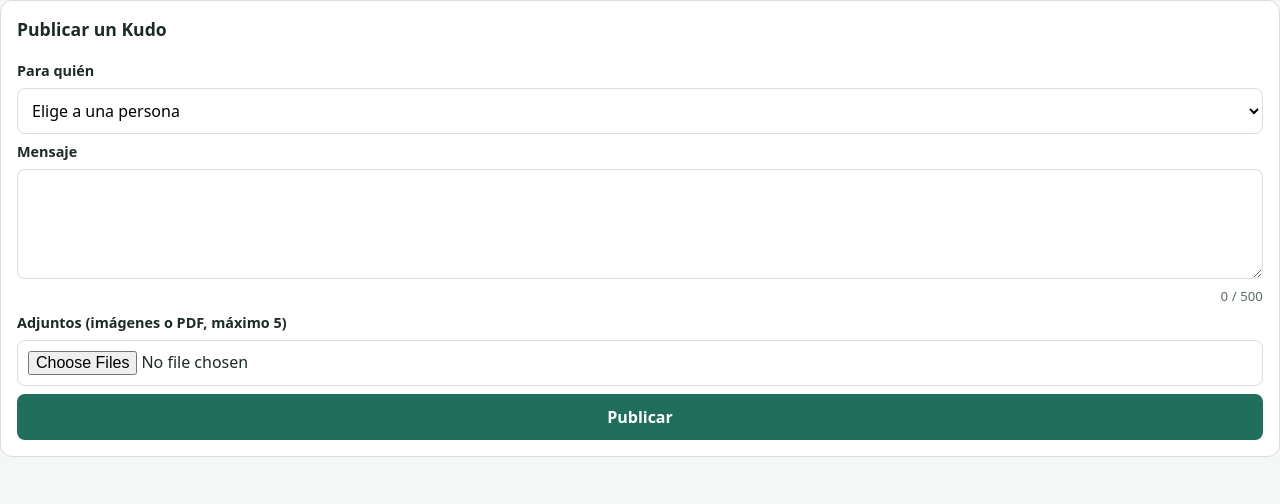
Test case: FormularioKudo › muestra el error que devuelve el backend
Select "Luis" in the dropdown labelled "Para quién" at coordinates (640, 111), box [17,88,1263,134]
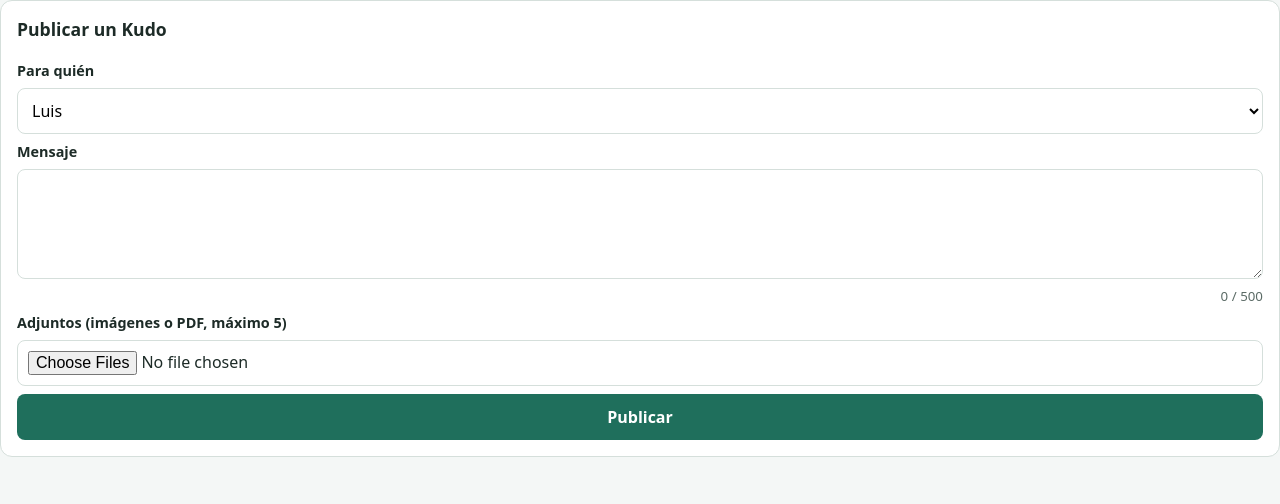
Type "hola" into the text box labelled "Mensaje" at coordinates (640, 224), box [17,169,1263,279]
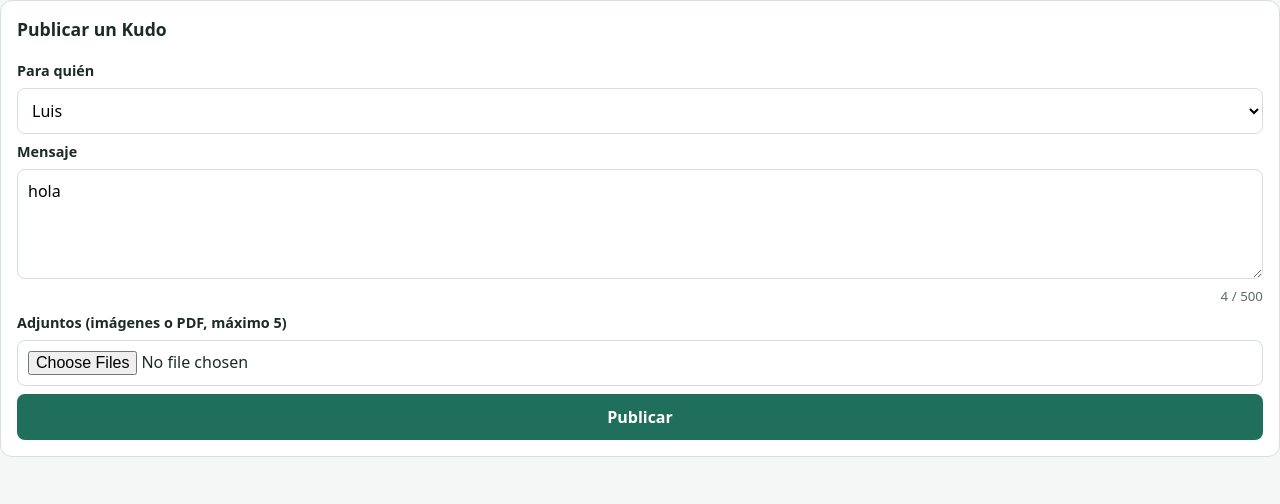
Click the button "Publicar" at coordinates (640, 417), box [17,394,1263,440]
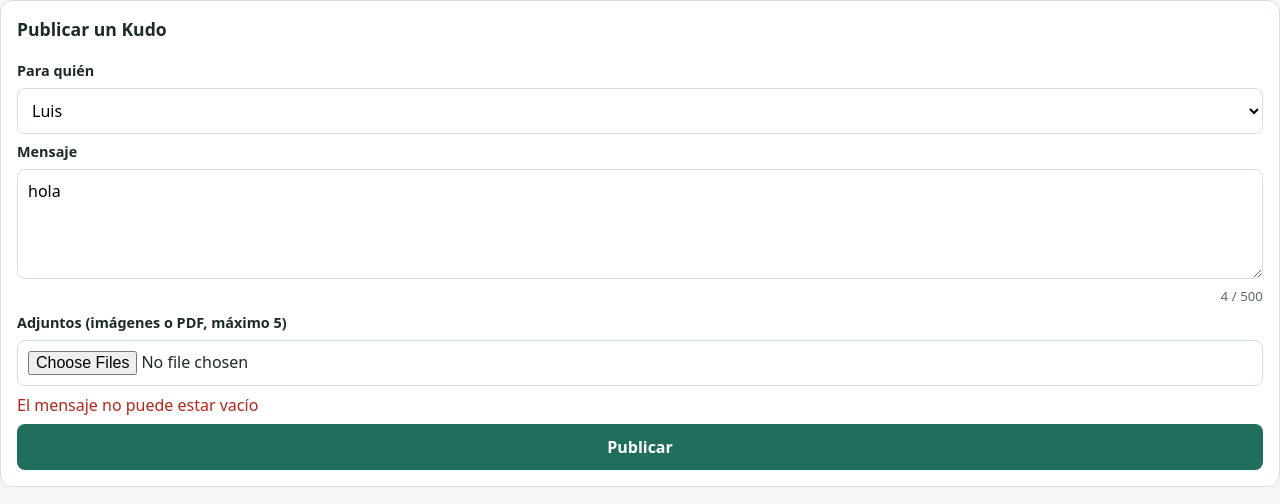
Result: the text "El mensaje no puede estar vacío" is shown at [17,394,258,416]
